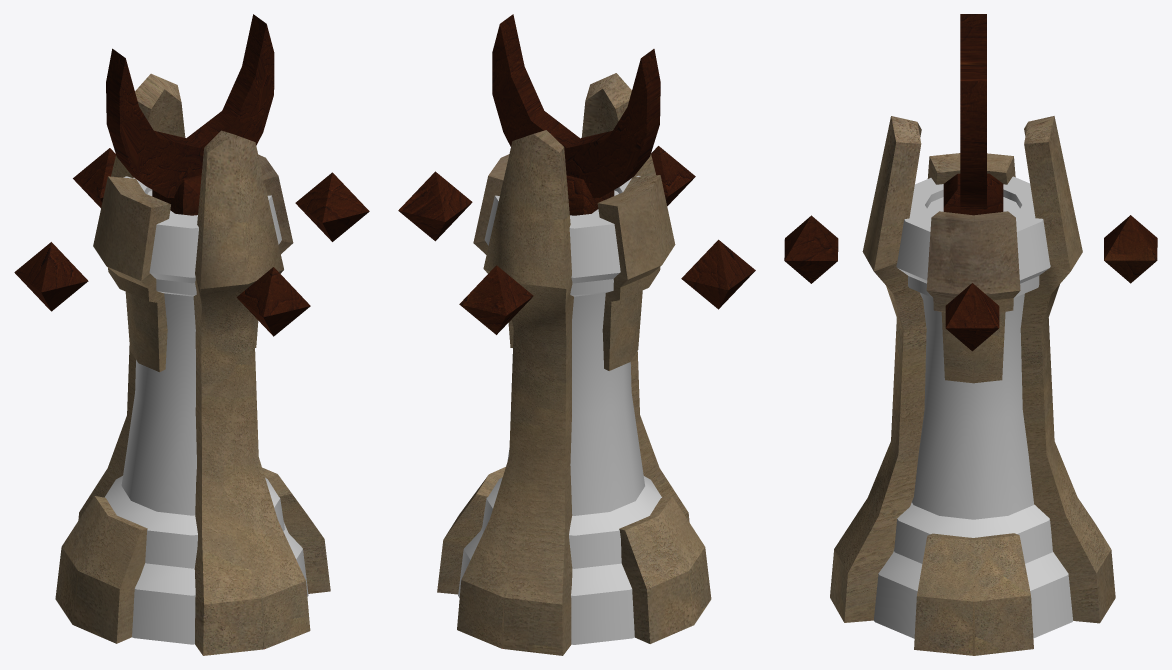
The model's file is Awesome tower.FBX.
3 renders of one model, left to right at view 1: azimuth 30°, elevation 25°; view 2: azimuth 150°, elevation 25°; view 3: azimuth 270°, elevation 25°, orthographic. The views are drawn at different scales.
Parts seen in each view (by area): view 1: Sides, Core, Top, Orbs; view 2: Sides, Core, Top, Orbs; view 3: Sides, Core, Orbs, Top.
Part boxes in pixels (x1=…): Sides: x1=55, y1=73, x2=330, y2=655; Core: x1=104, y1=176, x2=308, y2=644; Top: x1=106, y1=14, x2=274, y2=215; Orbs: x1=14, y1=148, x2=369, y2=336; Sides: x1=437, y1=73, x2=711, y2=655; Core: x1=458, y1=175, x2=661, y2=644; Top: x1=492, y1=14, x2=660, y2=215; Orbs: x1=398, y1=146, x2=755, y2=334; Sides: x1=830, y1=116, x2=1115, y2=655; Core: x1=873, y1=176, x2=1073, y2=638; Orbs: x1=784, y1=215, x2=1157, y2=351; Top: x1=943, y1=14, x2=1003, y2=215.
Size of the model in its own units: 54.87 by 89.16 by 54.89.
